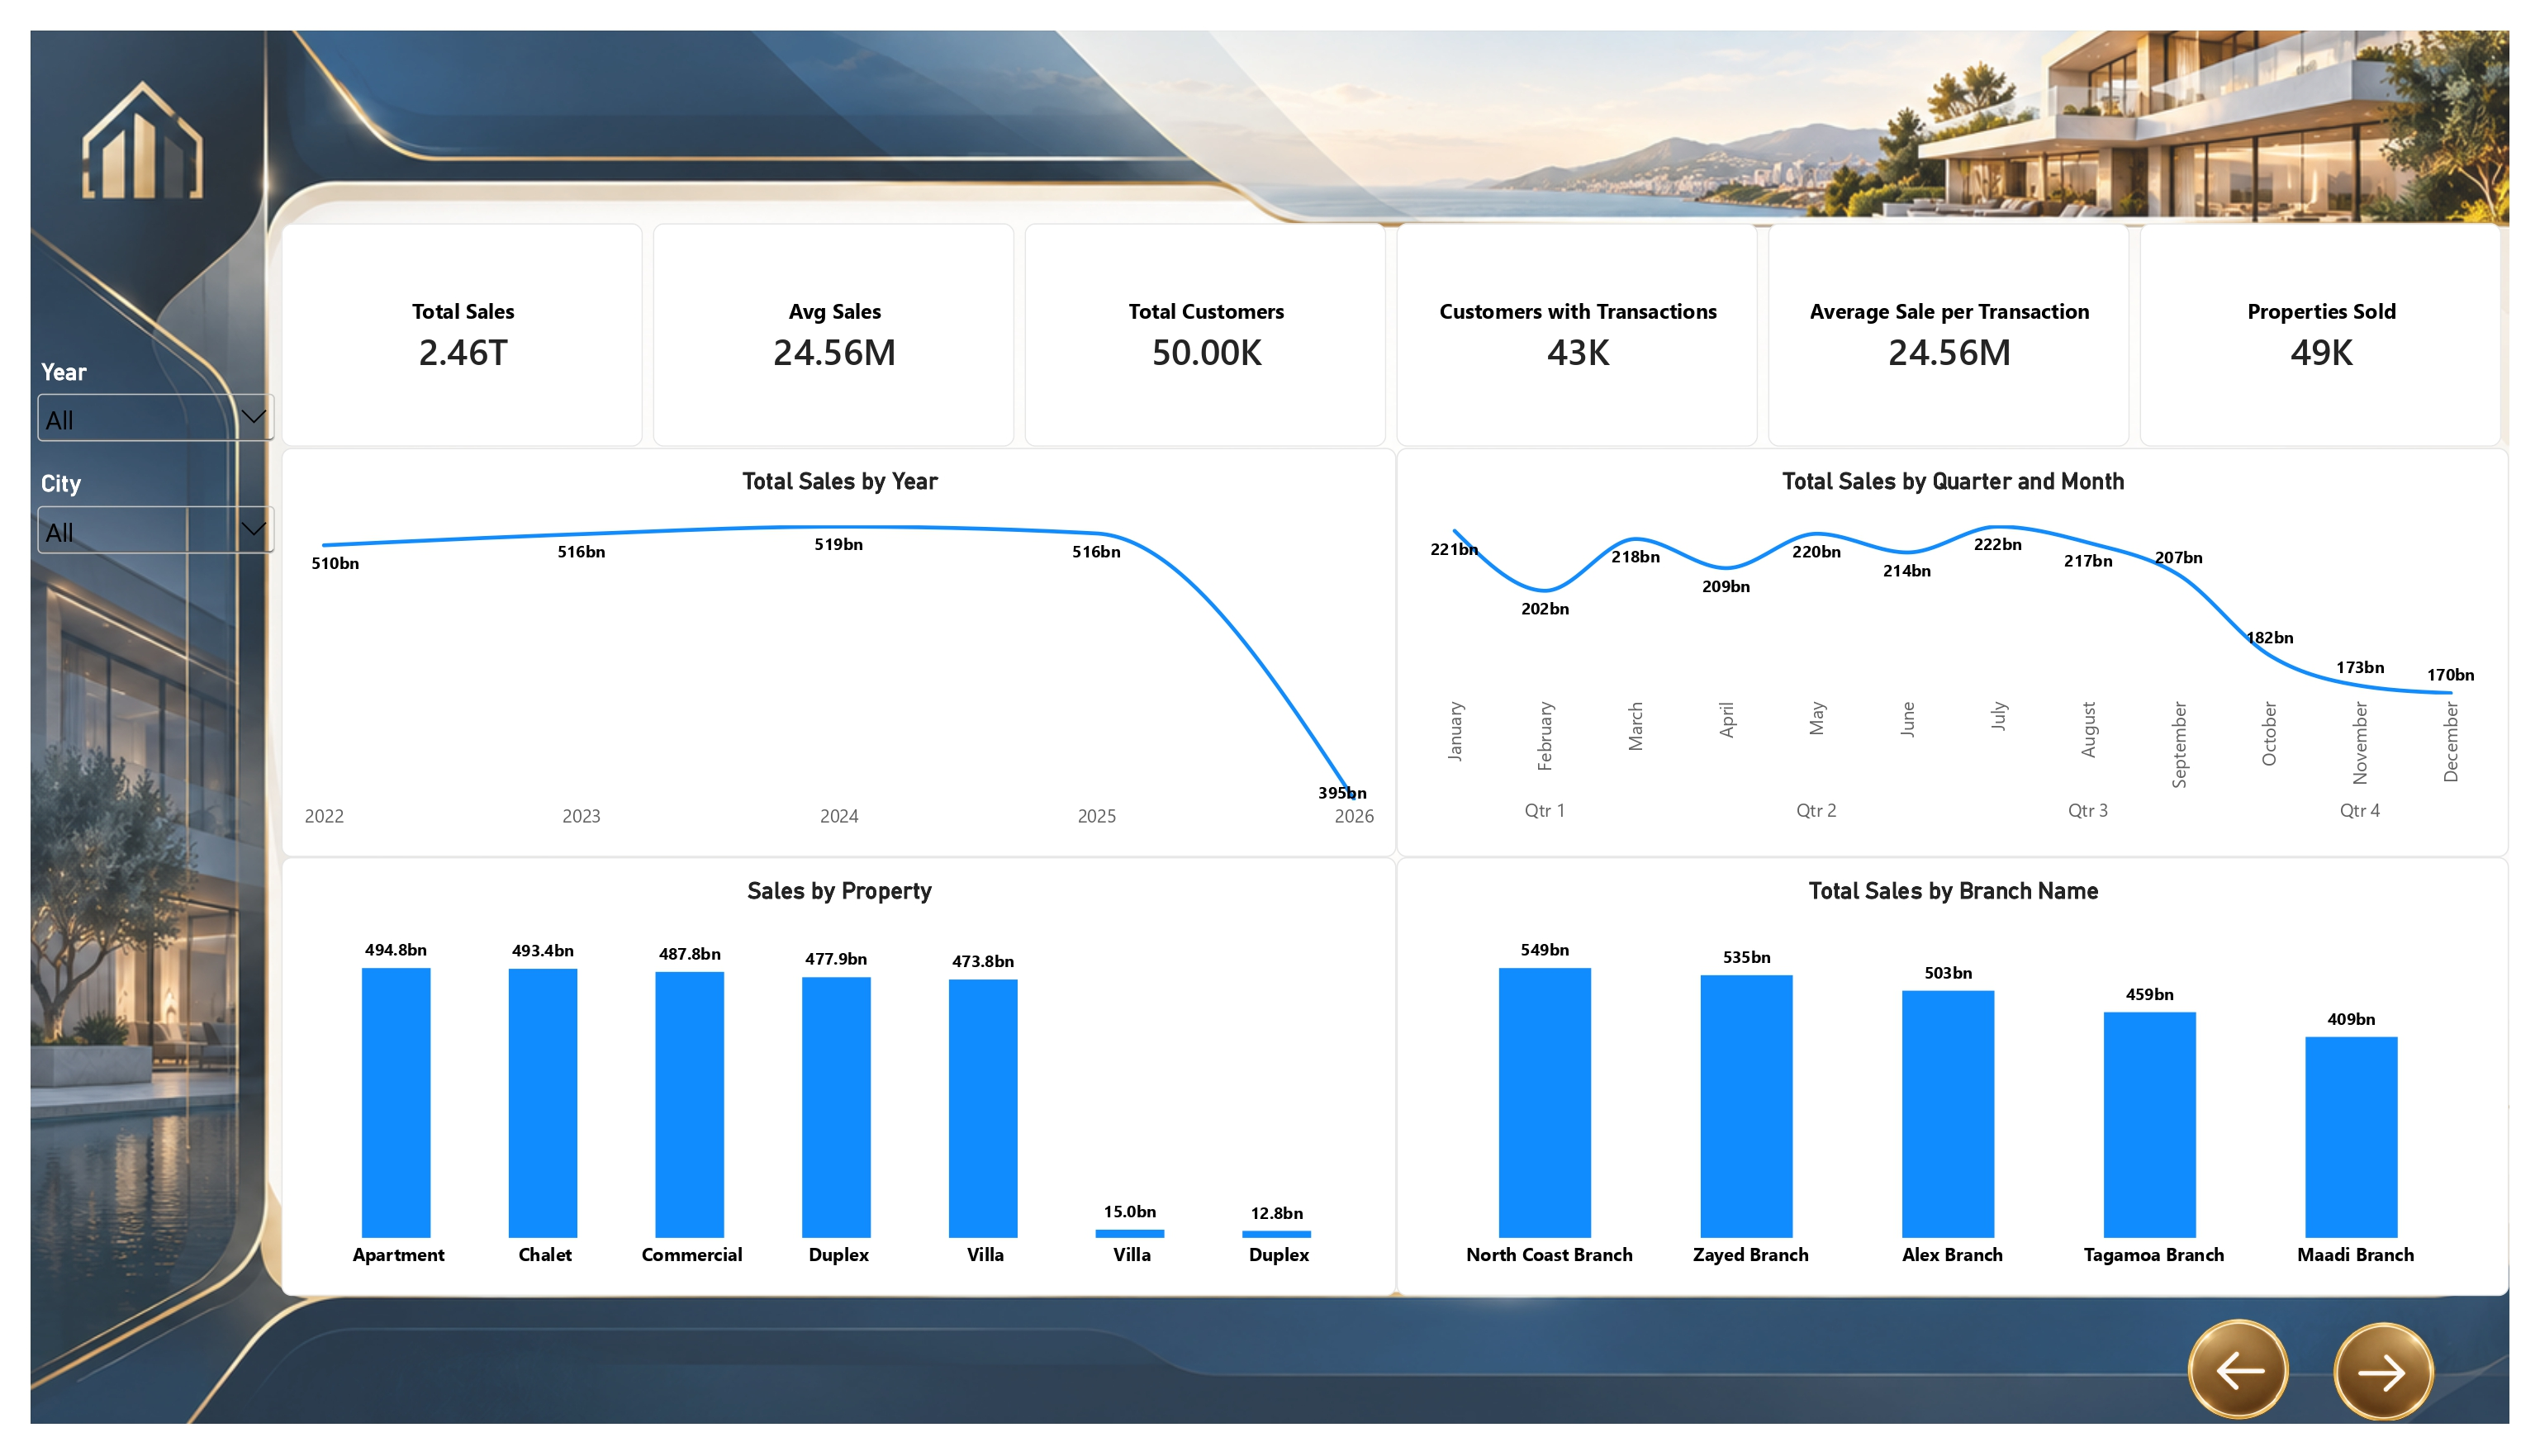

Layout of this report page (visuals, bound fields, positions):
{"tool":"powerbi","page":{"name":"OverView","canvas":[1920,1080],"ordinal":1},"visuals":[{"type":"cardVisual","fields":{"Data":["DAX.Total Sales","DAX.Avg Sales","DAX.Total Customers","DAX.Customers with Transactions","DAX.Average Sale per Transaction","DAX.Properties Sold"]},"box":[194,148.8,1726,173.6],"z":0},{"type":"lineChart","fields":{"Category":["Fact_Transactions.Year"],"Y":["DAX.Total Sales"]},"box":[193.5,323,864,317],"z":1000},{"type":"lineChart","fields":{"Category":["Date.Date.Variation.Date Hierarchy.Quarter","Date.Date.Variation.Date Hierarchy.Month"],"Y":["DAX.Total Sales"]},"box":[1057.5,323,862.5,317],"z":1001},{"type":"columnChart","title":"Total Sales by Branch Name","fields":{"Category":["Dim_Branches.Branch_Name"],"Y":["DAX.Total Sales"]},"box":[1057.5,640,862.5,339.8],"z":1002},{"type":"slicer","fields":{"Values":["Fact_Transactions.Year"]},"box":[0,253,193.5,86.9],"z":1003},{"type":"slicer","fields":{"Values":["Dim_Locations.City"]},"box":[0,339.8,193.5,89.9],"z":1004},{"type":"clusteredColumnChart","title":"Sales by Property","fields":{"Category":["Dim_Properties.Property_Type"],"Y":["DAX.Total Sales"]},"box":[193.5,640,864,339.8],"z":1005},{"type":"image","box":[1726.5,996.6,193.5,83.8],"z":1006},{"type":"image","box":[1613.7,996.6,193.5,83.8],"z":1007}]}

Visuals, with their boxes on the page's 1920x1080 design canvas (x1, y1, x2, y2). These are canvas units, not pixel positions in the 2540x1456 screenshot, which may show the page scaled, cropped or inside an application window:
cardVisual - DAX.Total Sales x DAX.Avg Sales: x1=194 y1=149 x2=1920 y2=322
lineChart - Fact_Transactions.Year x DAX.Total Sales: x1=194 y1=323 x2=1058 y2=640
lineChart - Date.Date.Variation.Date Hierarchy.Quarter x Date.Date.Variation.Date Hierarchy.Month: x1=1058 y1=323 x2=1920 y2=640
"Total Sales by Branch Name" columnChart: x1=1058 y1=640 x2=1920 y2=980
slicer - Fact_Transactions.Year: x1=0 y1=253 x2=194 y2=340
slicer - Dim_Locations.City: x1=0 y1=340 x2=194 y2=430
"Sales by Property" clusteredColumnChart: x1=194 y1=640 x2=1058 y2=980
image: x1=1726 y1=997 x2=1920 y2=1080
image: x1=1614 y1=997 x2=1807 y2=1080
